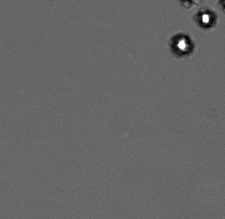Living Cell: (170, 33, 194, 56), (196, 9, 215, 28)
